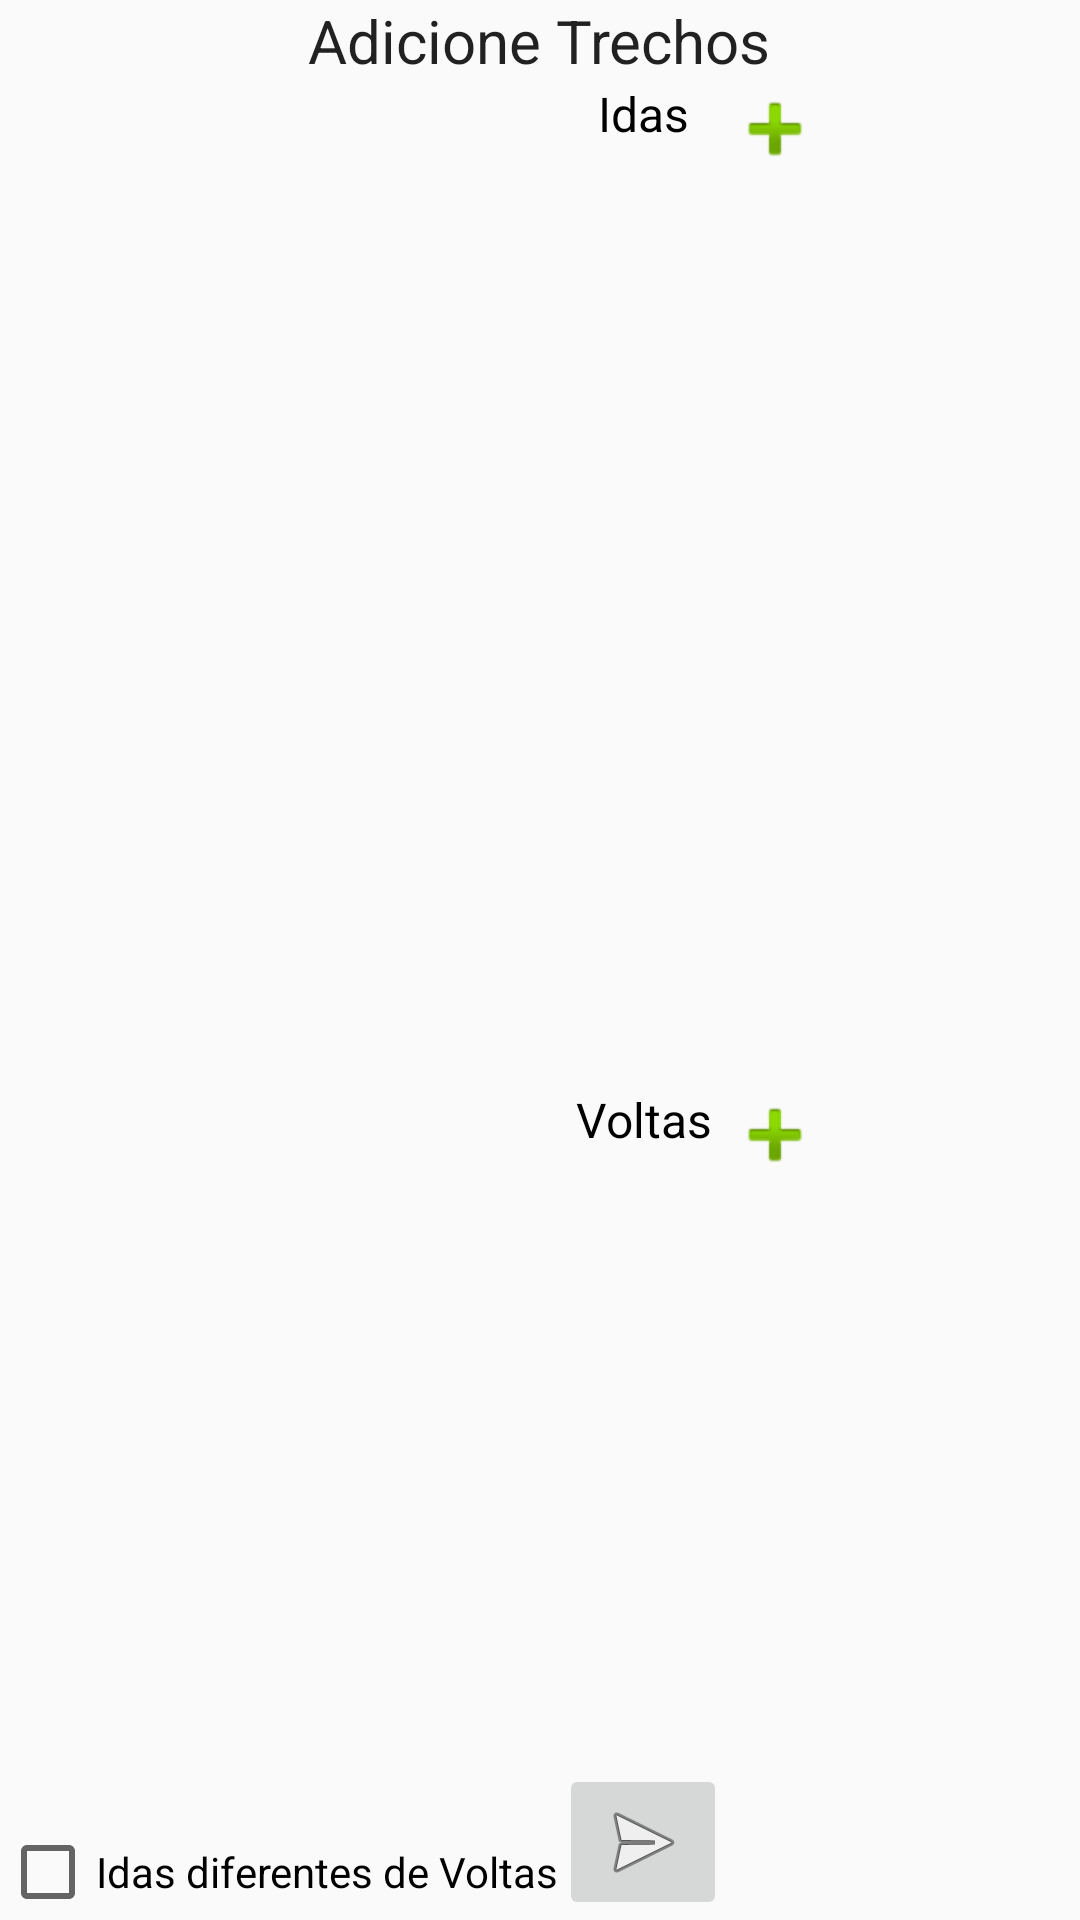

Named icons in this screenshot (1080x1920) and their centers, point (x, y):
add: point (775, 129), point (775, 1135)
send: point (643, 1842)
